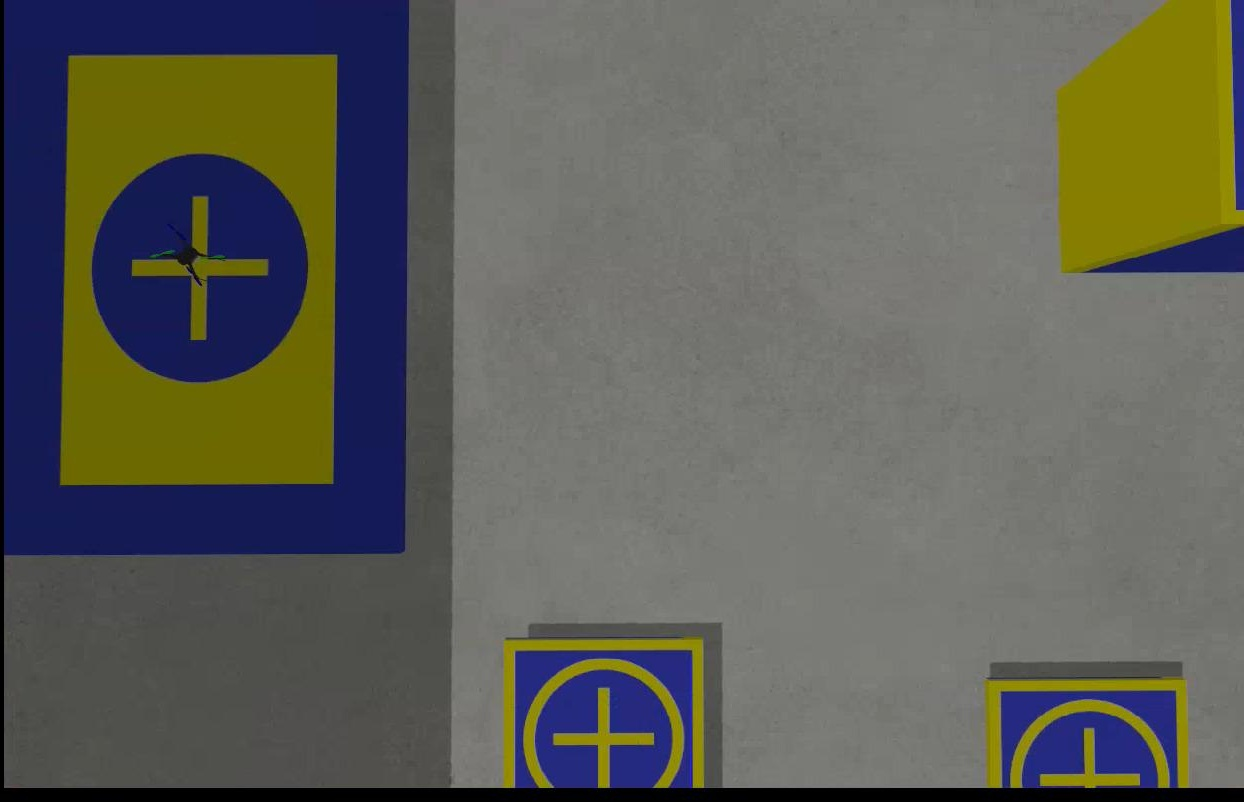large_base: (1, 1, 407, 549)
small_base: (503, 636, 704, 791), (984, 680, 1179, 789)
